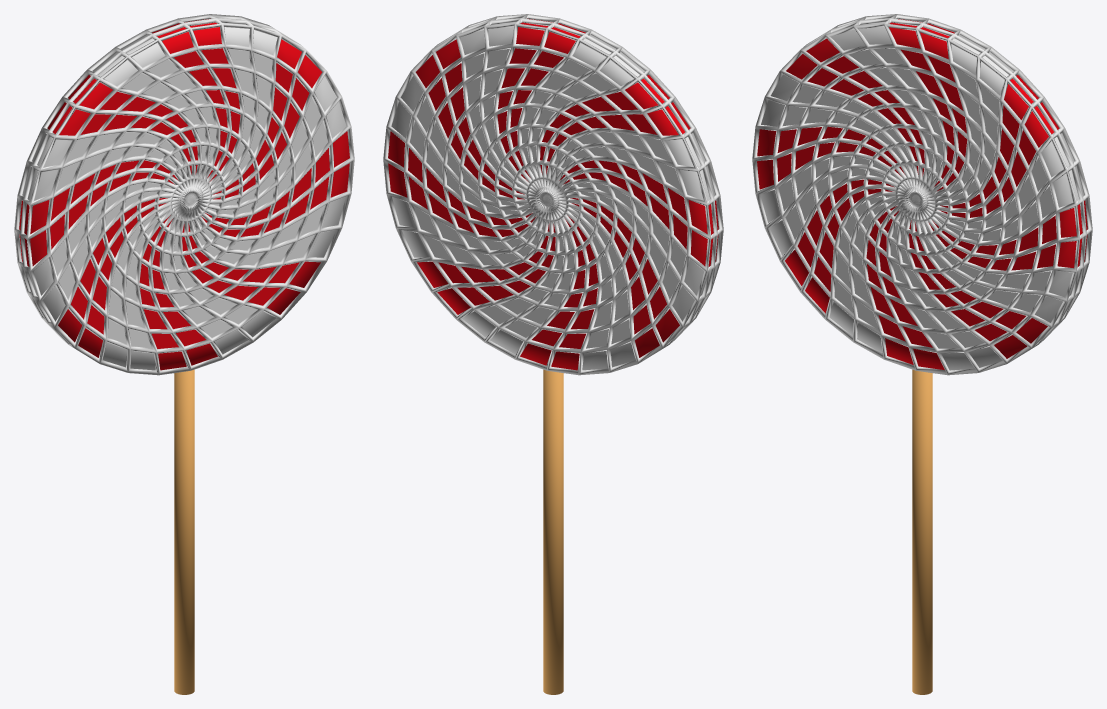
The model's file is PIRULETA CON LUCES 4.fbx.
3 views of the same model, side by side, from view 1: azimuth 30°, elevation 25°; view 2: azimuth 150°, elevation 25°; view 3: azimuth 330°, elevation 25° (orthographic).
Visible parts, largest first — view 1: Piruleta.001; view 2: Piruleta.001; view 3: Piruleta.001.
Part boxes in pixels (<box>): Piruleta.001: <box>14,14,354,694</box>; Piruleta.001: <box>383,14,723,694</box>; Piruleta.001: <box>752,14,1092,694</box>.
Size of the model in its own units: 812 by 1576 by 58.38.
